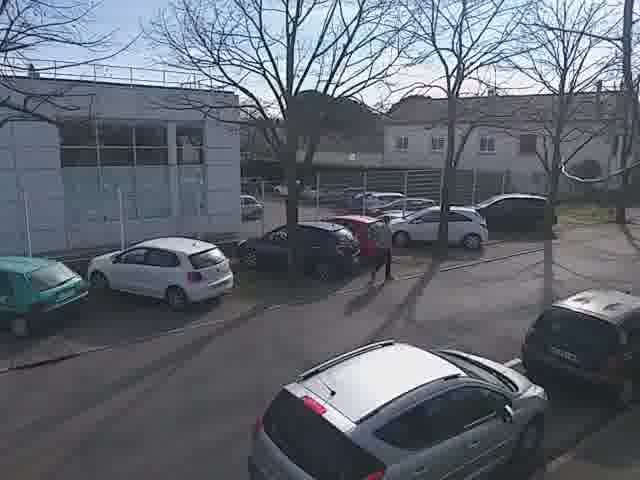persona: (364, 207, 399, 287)
